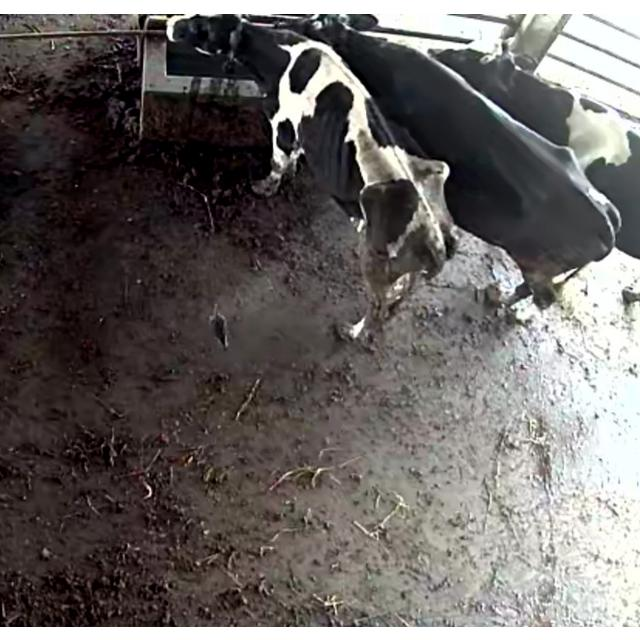drink: (158, 13, 298, 95), (278, 13, 404, 87)
